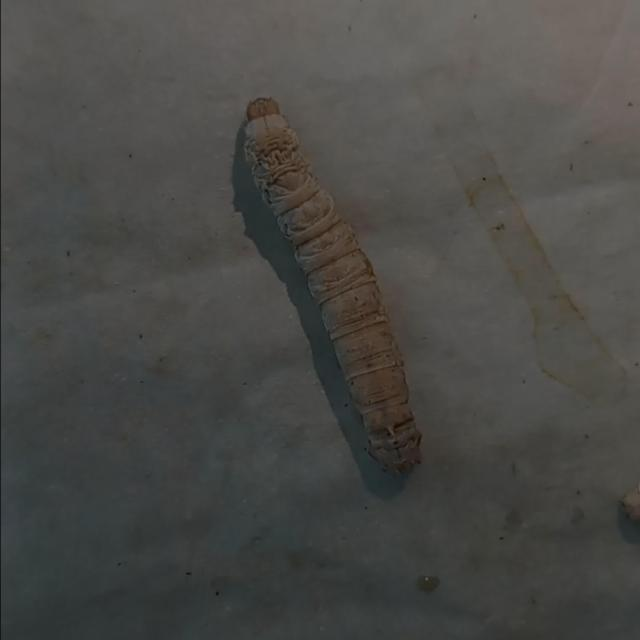Grasserie: (226, 89, 444, 483)
